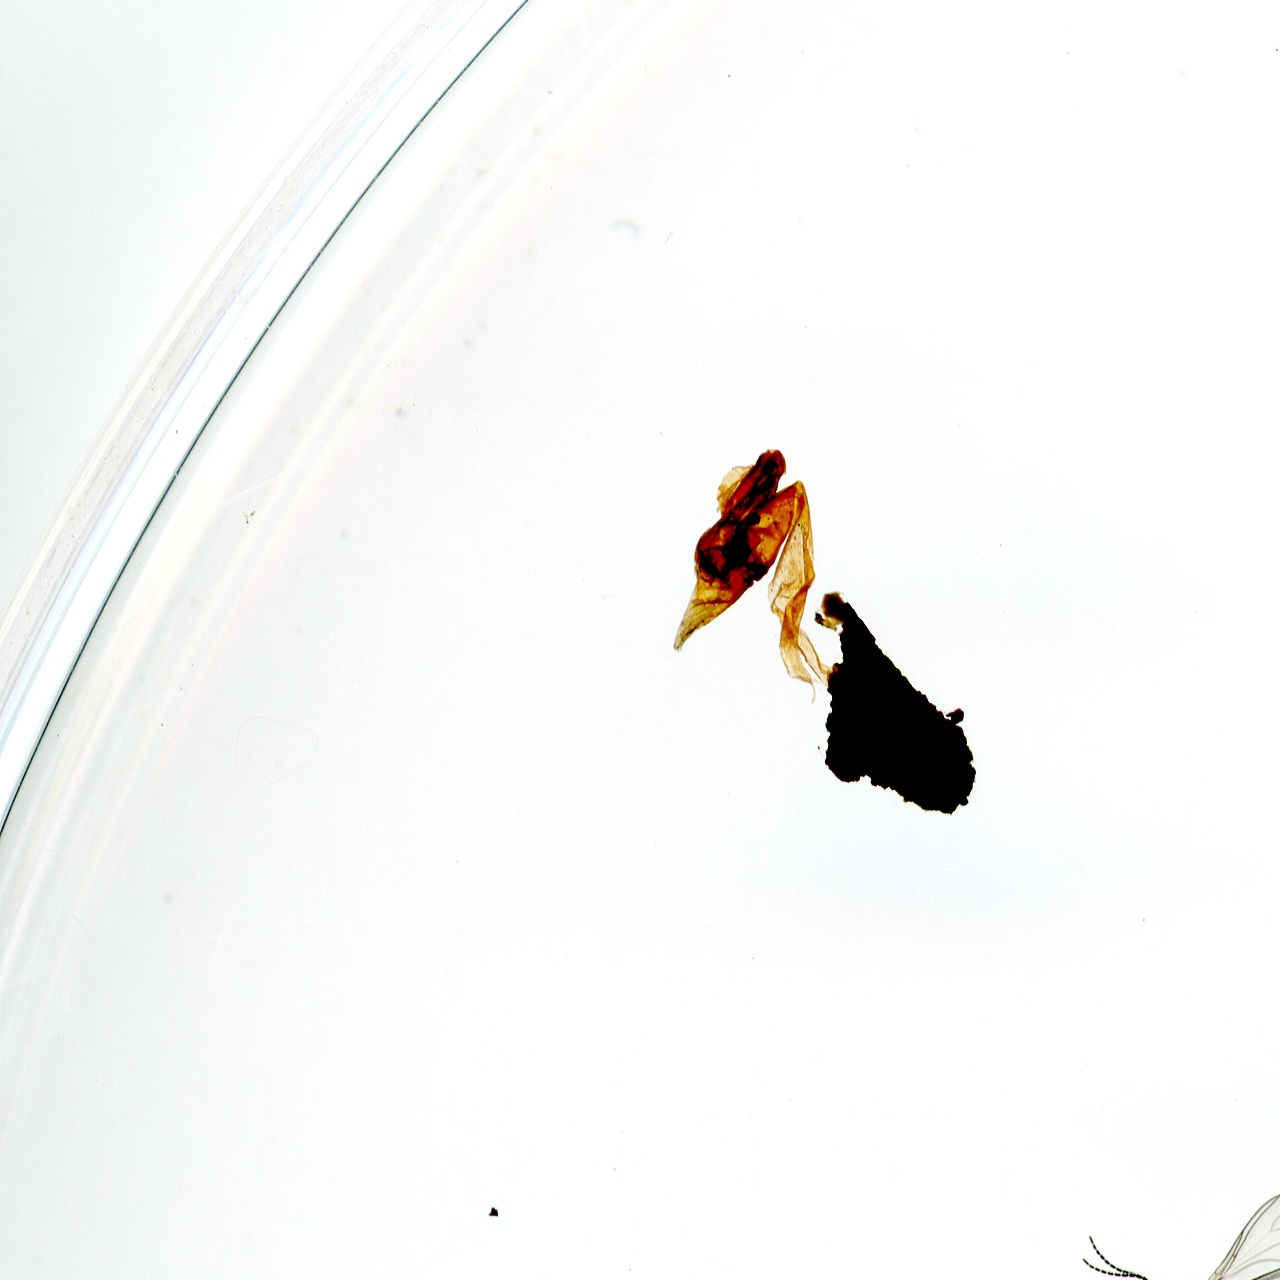arthropod: (1061, 1153, 1280, 1280)
